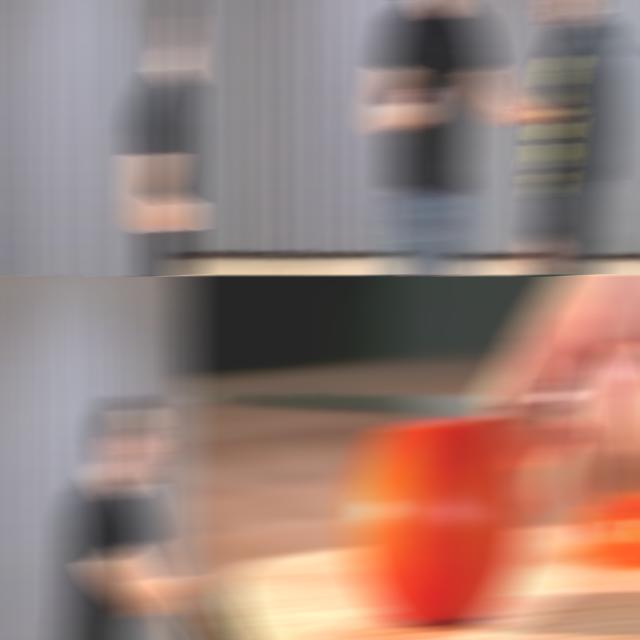Knife_Handle: (186, 275, 640, 517), (403, 37, 440, 126)
